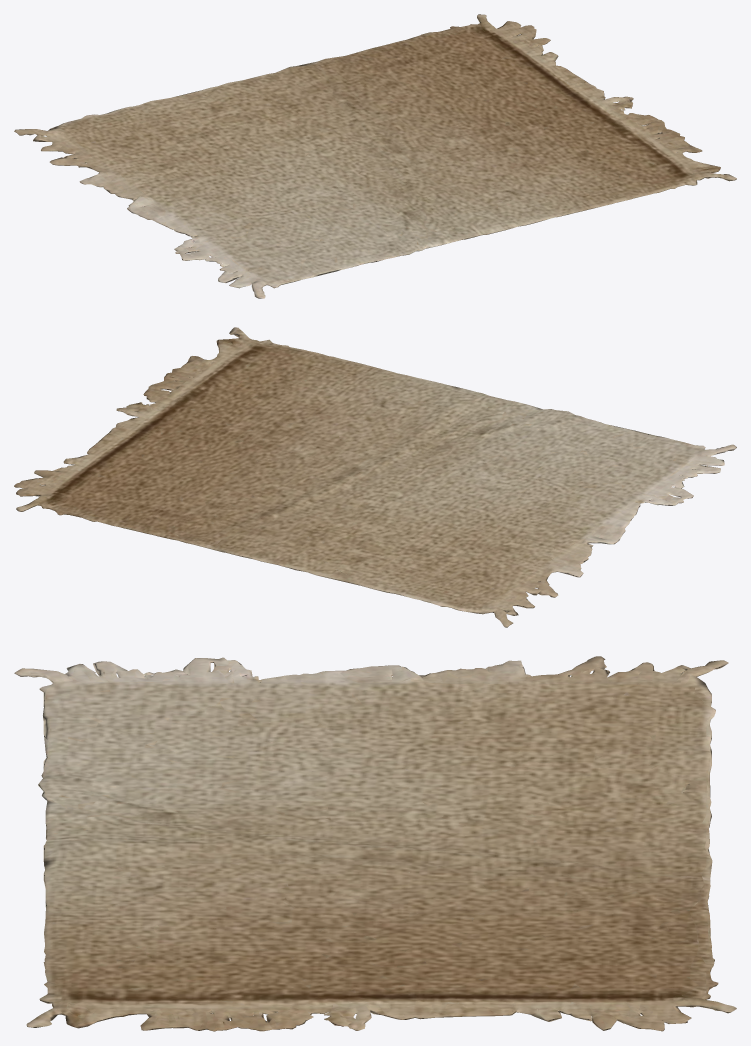
The model's file is rug.glb.
3 renders of one model, top to bottom at view 1: azimuth 30°, elevation 25°; view 2: azimuth 150°, elevation 25°; view 3: azimuth 270°, elevation 25°, orthographic. The views are drawn at different scales.
Parts seen in each view (by area): view 1: rug-normalized; view 2: rug-normalized; view 3: rug-normalized.
Part boxes in pixels (x1,y1,x2,y2): rug-normalized: (14,14,736,298); rug-normalized: (14,327,736,627); rug-normalized: (14,656,736,1031).
Size of the model in its own units: 2.75 by 0.025 by 2.25.
Materials: 1 (1 with a texture image).
